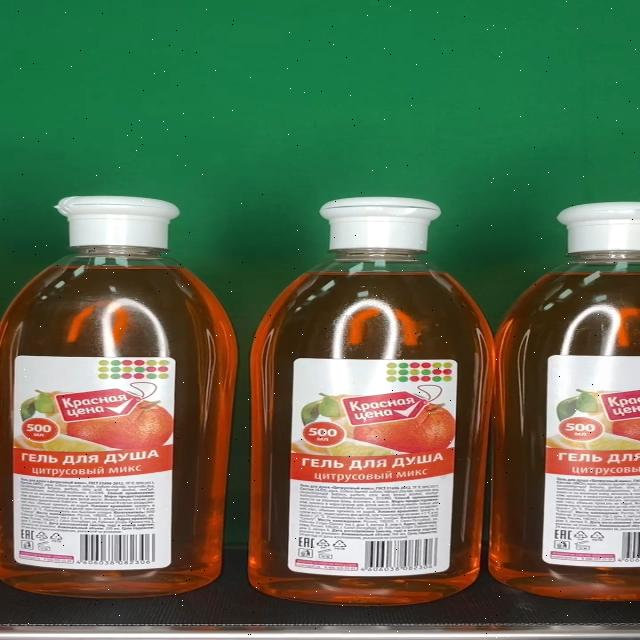Bottle: (248, 197, 496, 607), (0, 196, 238, 599)
Cap: (317, 198, 441, 251), (56, 196, 181, 248)
